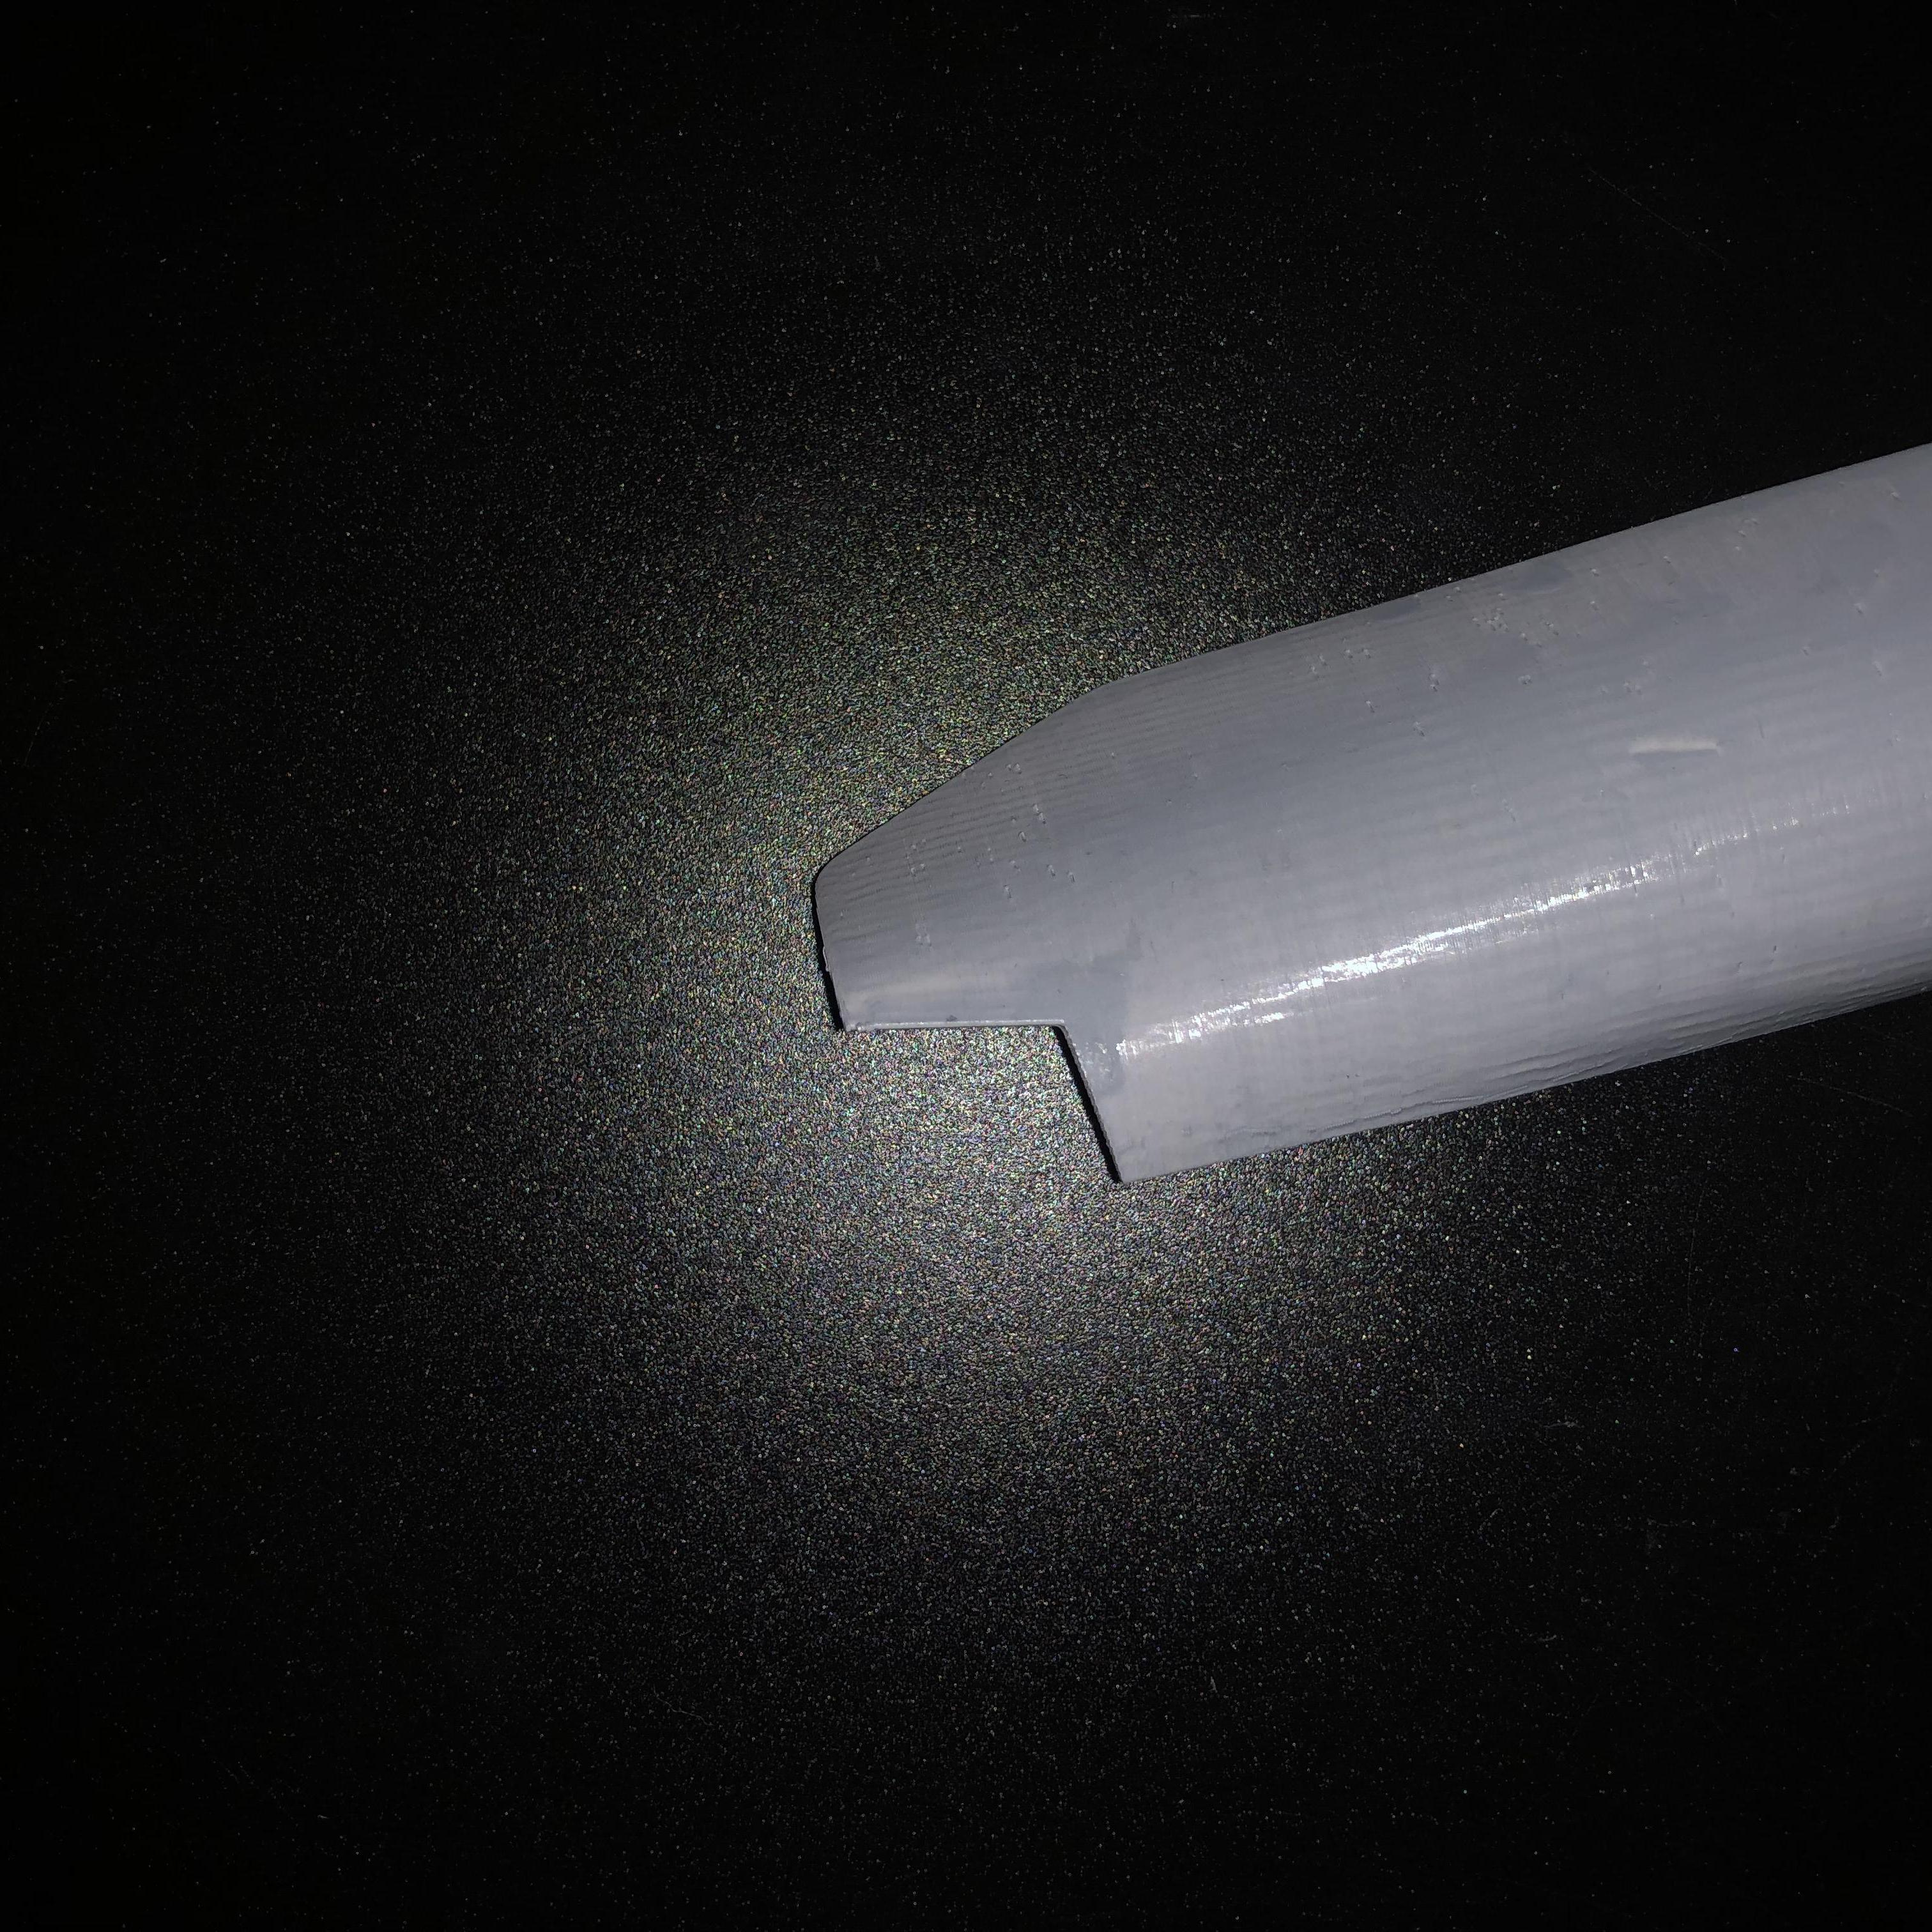fracture: (842, 980, 1138, 1185)
